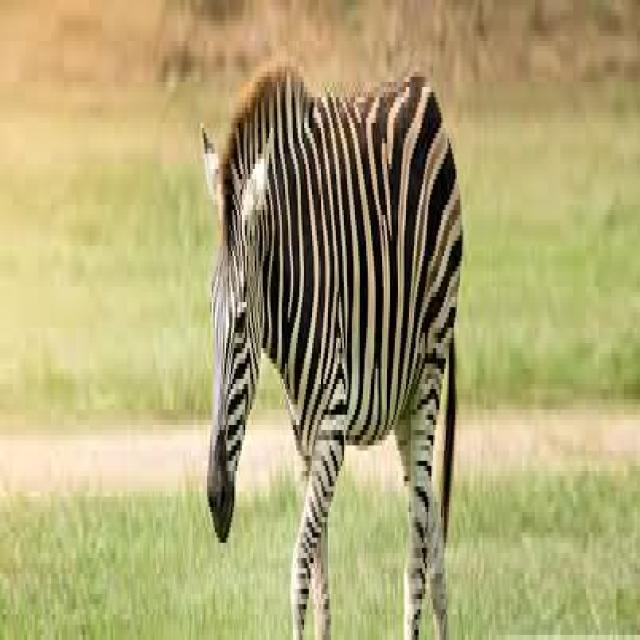Zebra: (199, 58, 464, 640)
